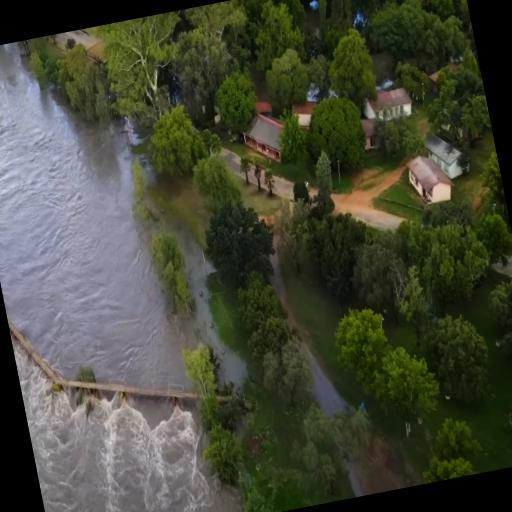flood: (0, 43, 195, 389), (10, 334, 242, 512), (176, 228, 248, 387)
house: (240, 104, 296, 170), (405, 151, 458, 213), (422, 126, 464, 180), (370, 83, 418, 127)
